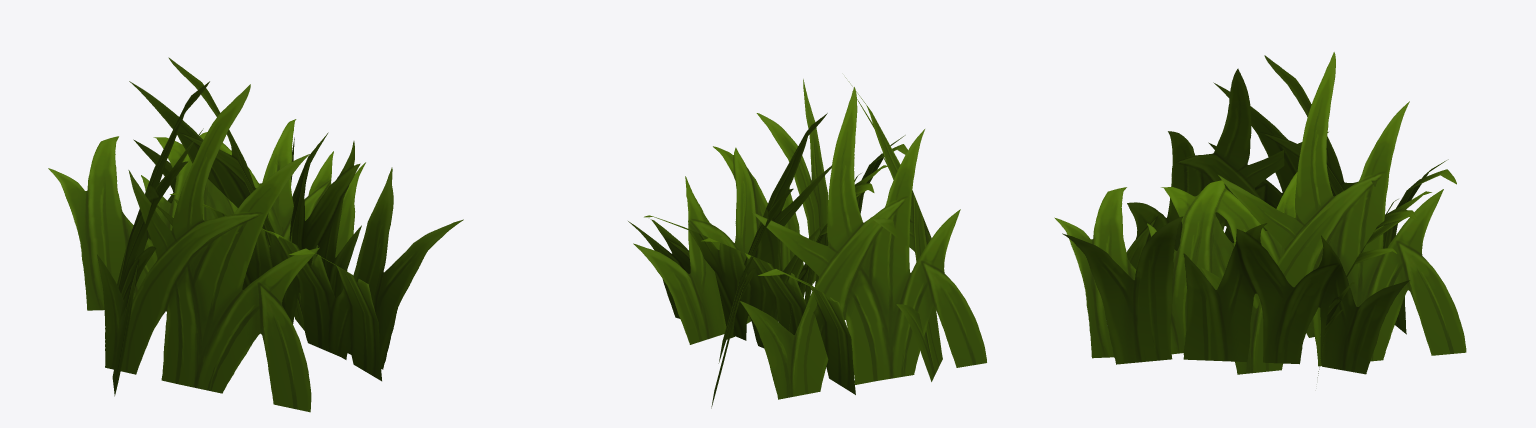
The model's file is Grass_1.FBX.
The picture shows the model from 3 angles, left to right: view 1: azimuth 30°, elevation 25°; view 2: azimuth 150°, elevation 25°; view 3: azimuth 270°, elevation 25°; orthographic projection. The views are drawn at different scales.
Visible parts, largest first — view 1: Grass_1; view 2: Grass_1; view 3: Grass_1.
Boxes of the visible parts, box(x1,y1,x2,y2) form: Grass_1: box(48, 57, 463, 412); Grass_1: box(628, 77, 986, 408); Grass_1: box(1054, 52, 1466, 377).
Size of the model in its own units: 82.94 by 102 by 68.42.
